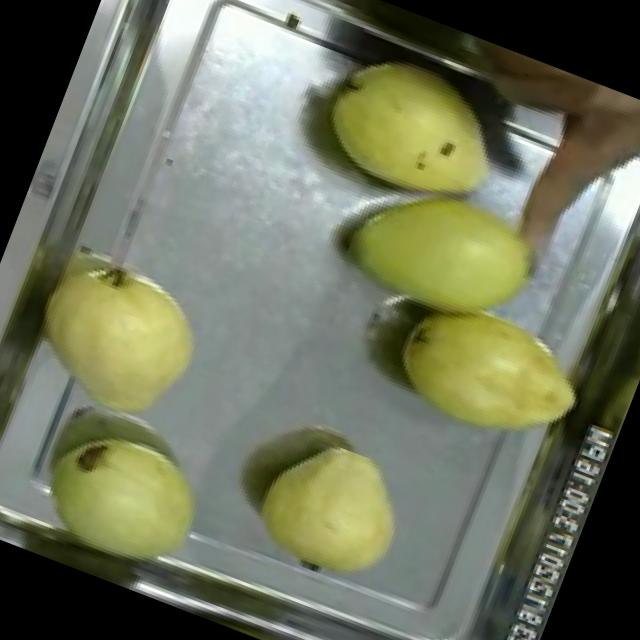Fruit: (322, 138, 574, 362), (296, 27, 532, 237), (403, 24, 640, 232), (8, 230, 231, 445), (372, 270, 606, 472), (13, 398, 228, 600), (229, 414, 430, 606)
